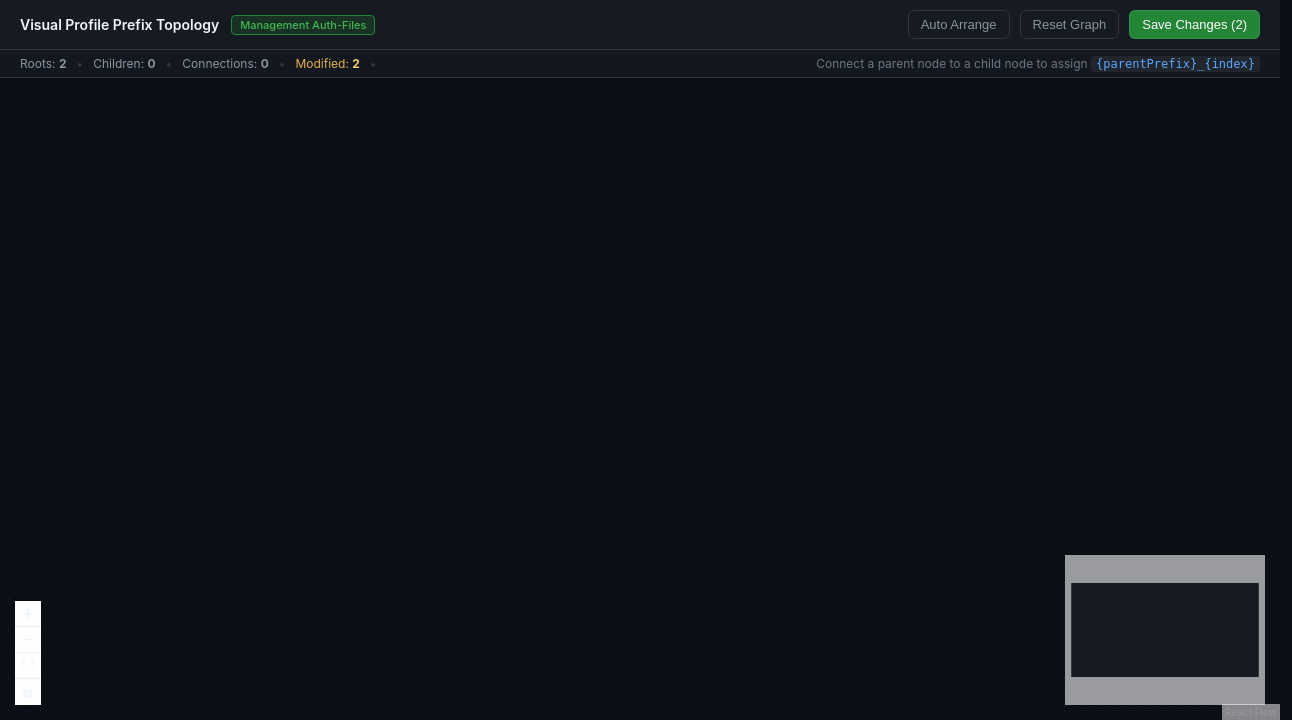
Test case: ProfileGraph Component and onConnect Integration › VP-4 Explicit Save Changes, PATCH, Reconciliation, and Partial Failure › permits saving duplicate prefixes for accounts sharing a rotation pool
Step 1. Click the button with test id "btn-save-changes" → (1195, 24), box [1129, 10, 1260, 39]
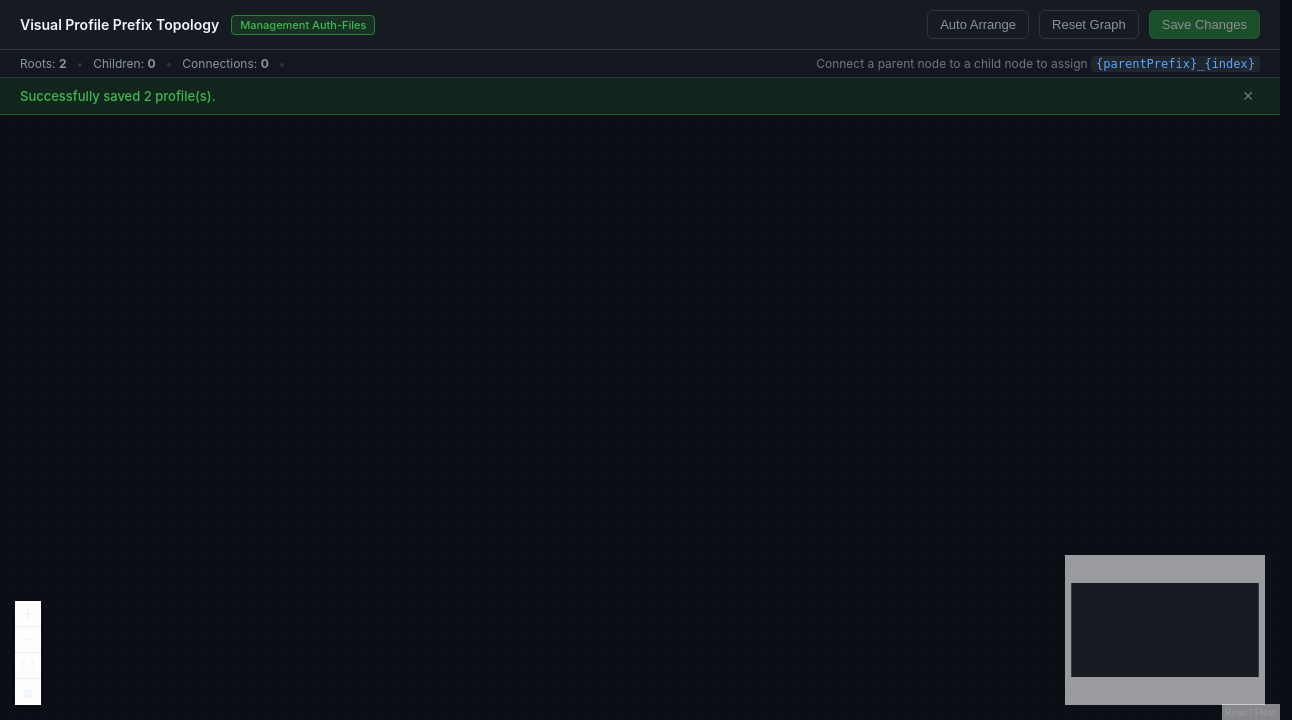
Result: the element with test id "save-status-success" is shown at [0, 78, 1280, 115]
